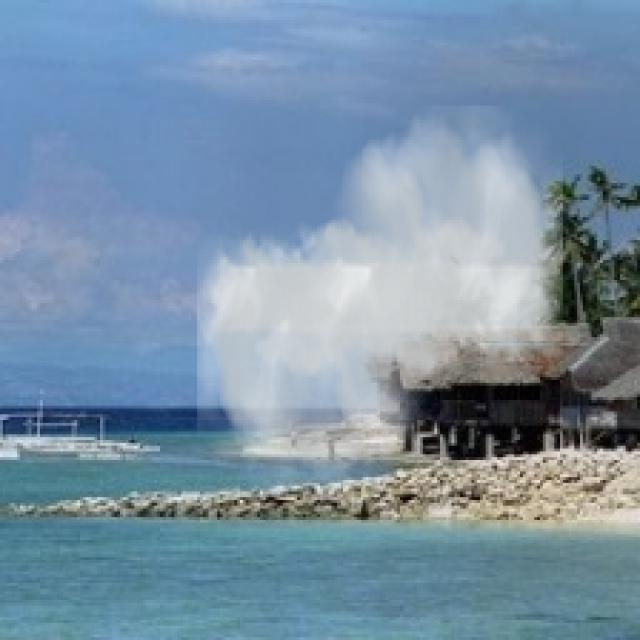smoke: (197, 106, 563, 491)
